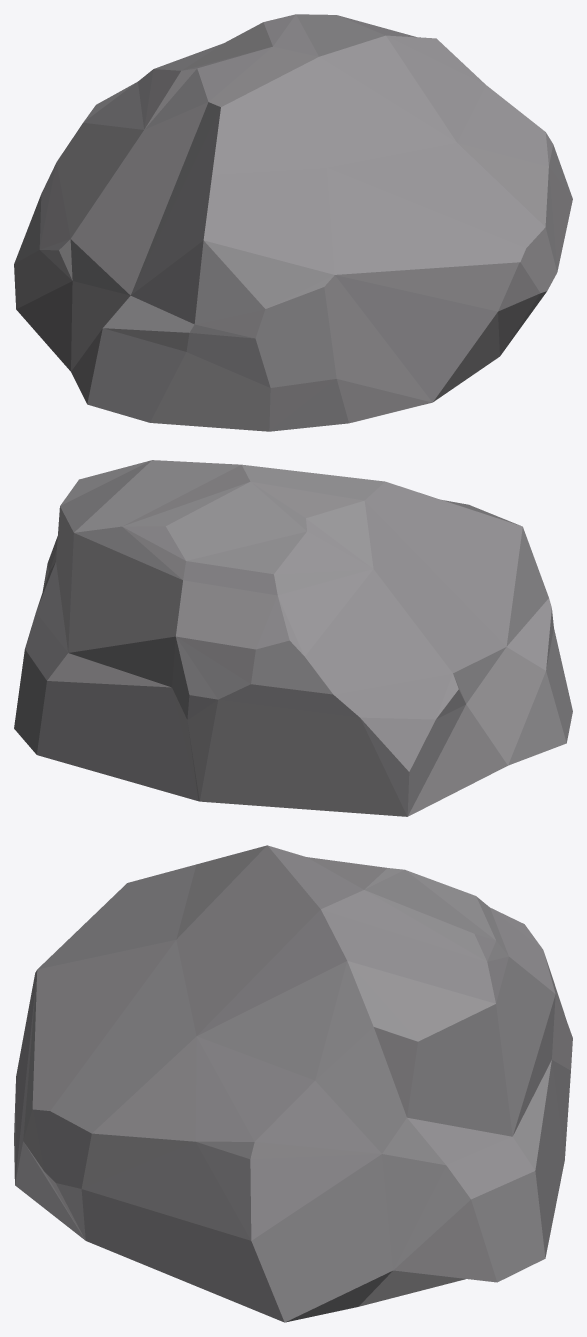
The model's file is Rock_Round_l_01.fbx.
The picture shows the model from 3 angles, top to bottom: view 1: azimuth 30°, elevation 25°; view 2: azimuth 150°, elevation 25°; view 3: azimuth 270°, elevation 25°; orthographic projection. The views are drawn at different scales.
Parts seen in each view (by area): view 1: Rock_Round_l_01; view 2: Rock_Round_l_01; view 3: Rock_Round_l_01.
Part boxes in pixels (bbox=[...]): Rock_Round_l_01: bbox=[14, 14, 572, 431]; Rock_Round_l_01: bbox=[14, 460, 572, 816]; Rock_Round_l_01: bbox=[14, 845, 572, 1322].
Size of the model in its own units: 3.42 by 1.86 by 2.83.
